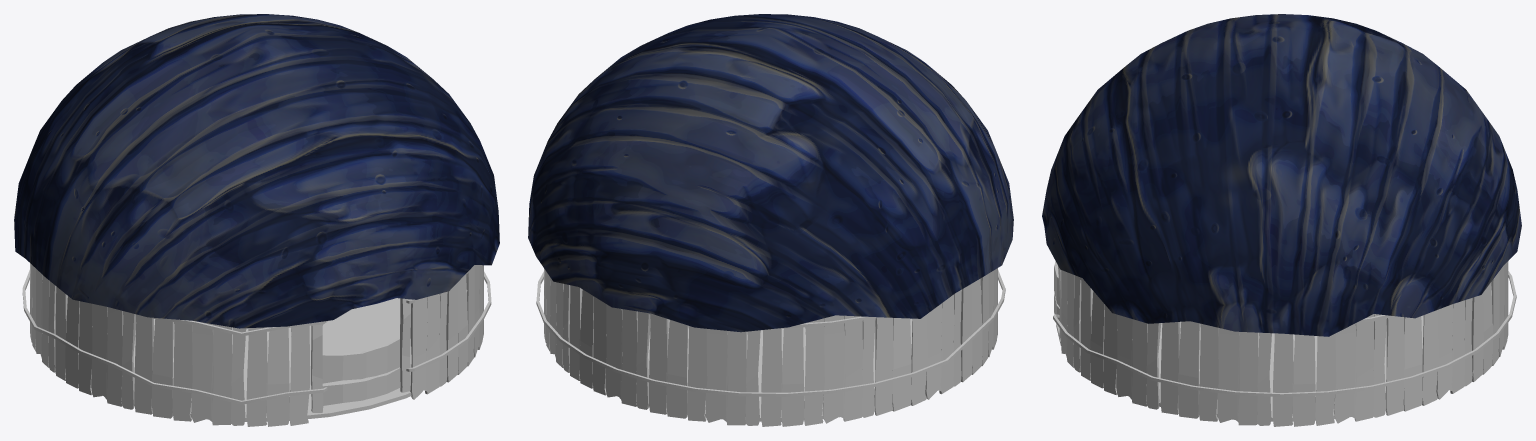
Rendered from raika house.fbx.
3 renders of one model, left to right at view 1: azimuth 30°, elevation 25°; view 2: azimuth 150°, elevation 25°; view 3: azimuth 270°, elevation 25°, orthographic.
Visible parts, largest first — view 1: ATAP, lingkar pagar realis.001; view 2: ATAP, lingkar pagar realis.001; view 3: ATAP, lingkar pagar realis.001.
Boxes of the visible parts, x1,y1,x2,y2 form: ATAP: [14, 14, 499, 328]; lingkar pagar realis.001: [22, 263, 491, 426]; ATAP: [528, 14, 1013, 332]; lingkar pagar realis.001: [536, 268, 1005, 426]; ATAP: [1042, 14, 1521, 336]; lingkar pagar realis.001: [1053, 261, 1516, 426].
Size of the model in its own units: 23800 by 16177 by 23400.
